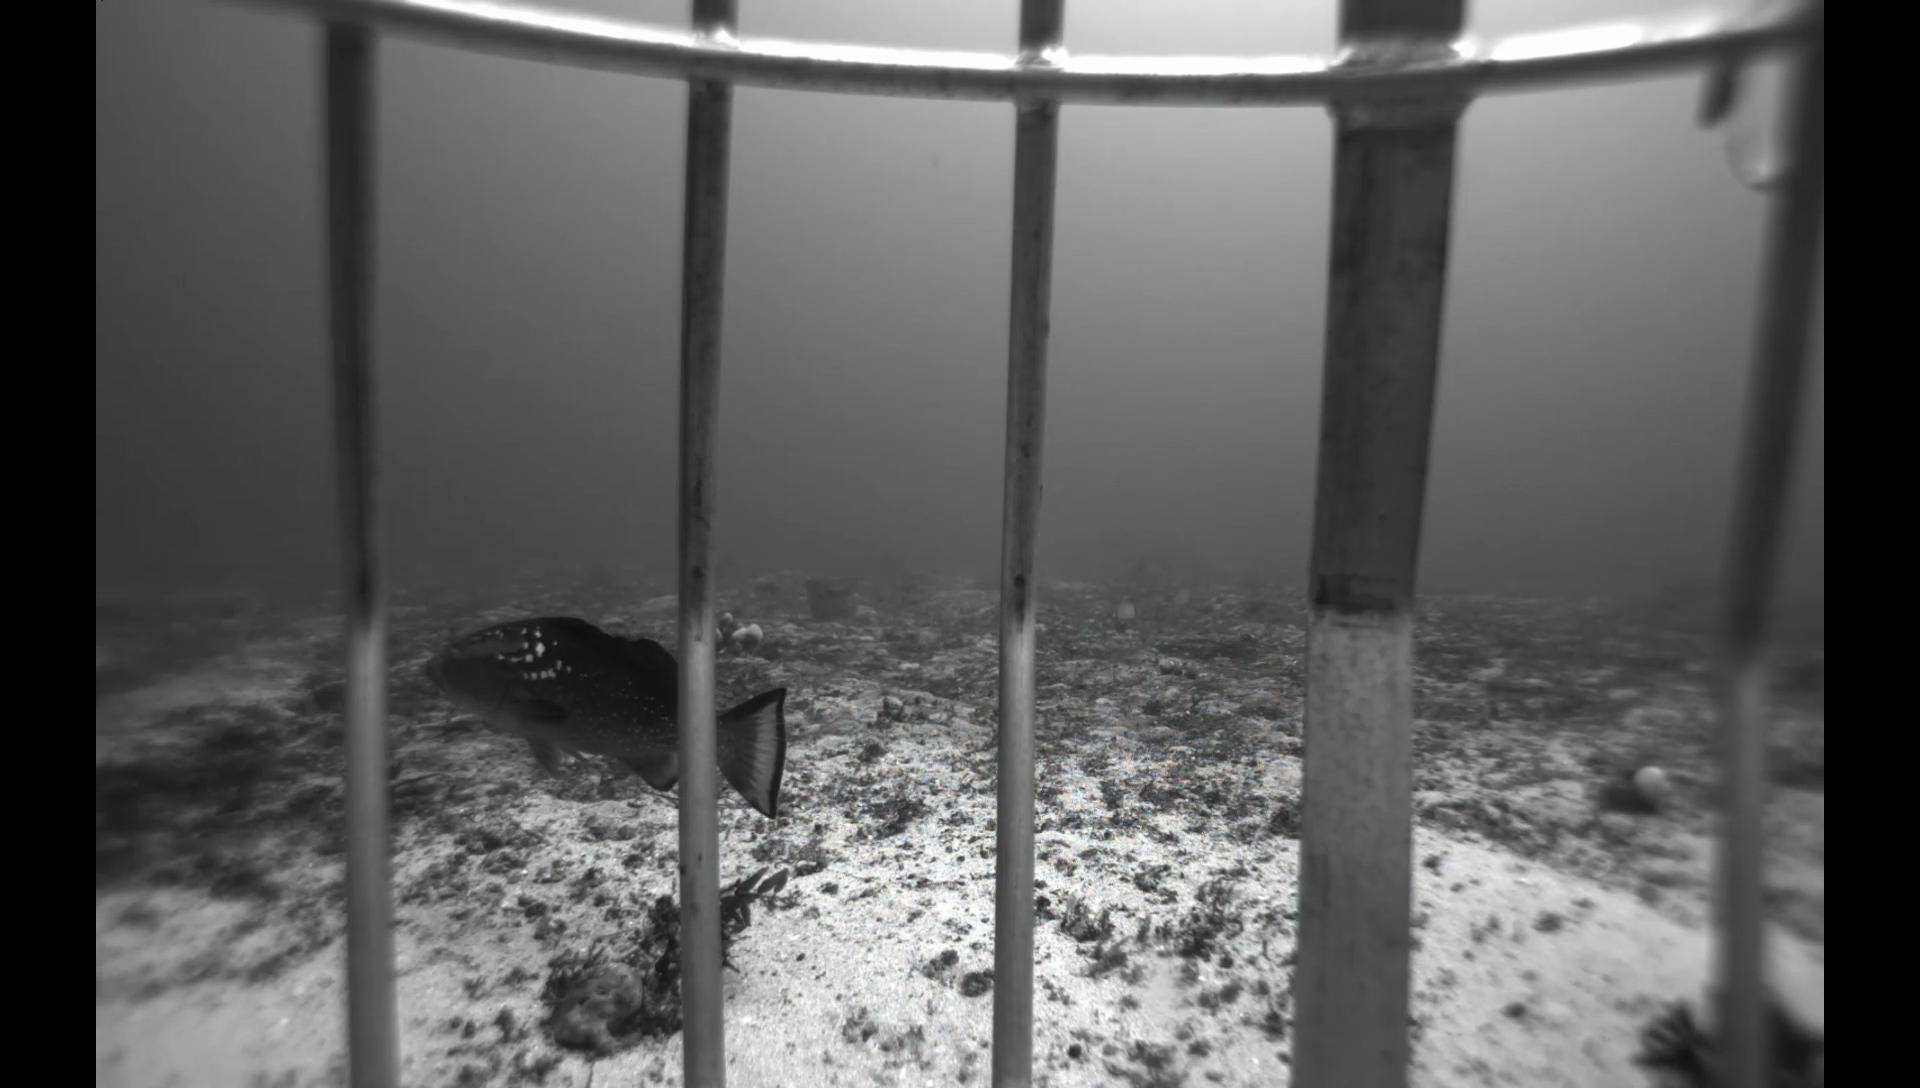CHAETODONOCELLATUS-170260307: (1106, 596, 1146, 626), (1163, 583, 1197, 611)
EPINEPHELUSMORIO-170021211: (410, 597, 794, 824)
PRISTIGENYSALTA-170050401: (298, 673, 348, 716)
